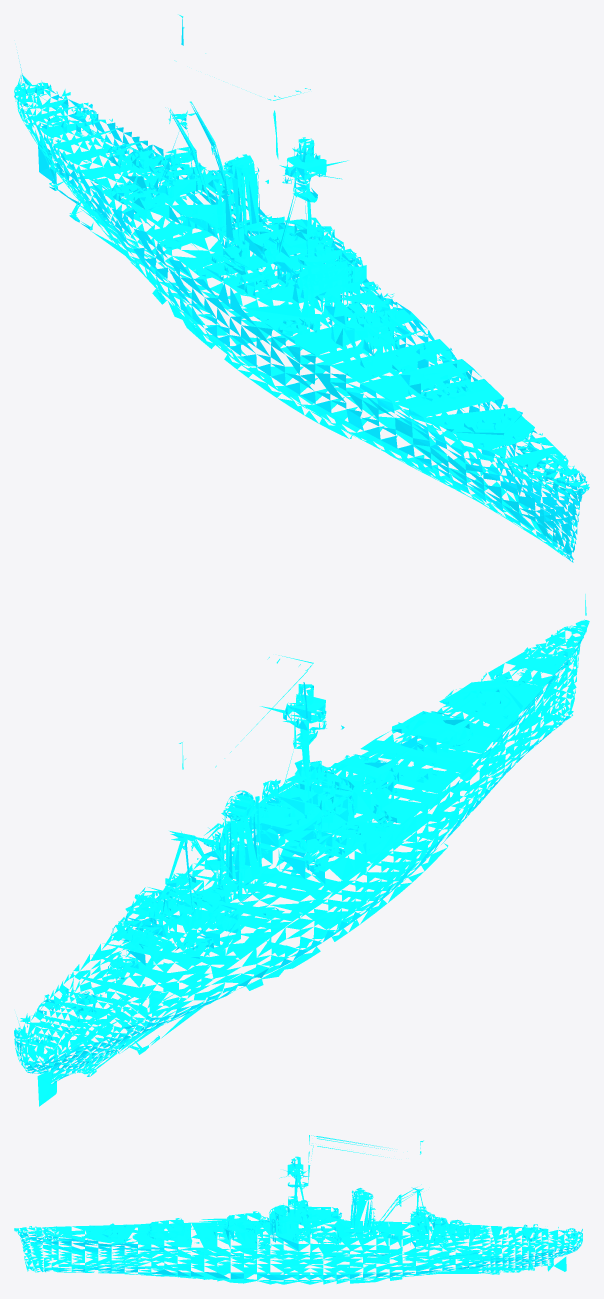
The model's file is Brest.glb.
3 views of the same model, one above another, from view 1: azimuth 30°, elevation 25°; view 2: azimuth 150°, elevation 25°; view 3: azimuth 270°, elevation 25° (orthographic). The views are drawn at different scales.
Size of the model in its own units: 1.83 by 3.64 by 14.37.
